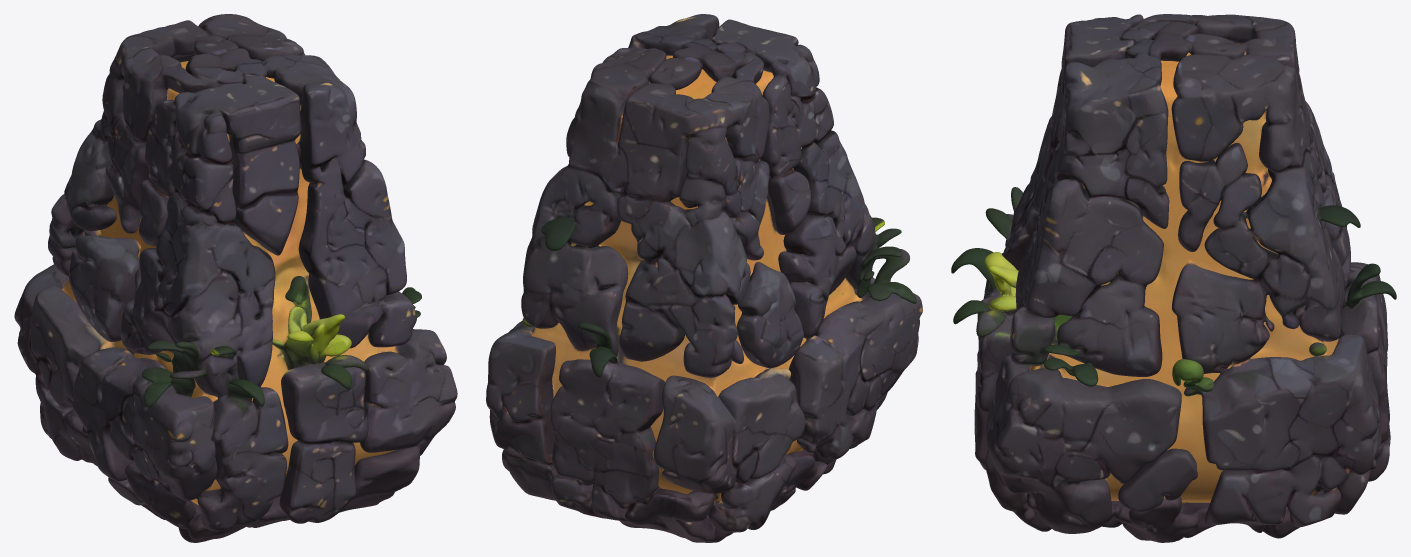
The model's file is lava-rock.glb.
The picture shows the model from 3 angles, left to right: view 1: azimuth 30°, elevation 25°; view 2: azimuth 150°, elevation 25°; view 3: azimuth 270°, elevation 25°; orthographic projection. The views are drawn at different scales.
Visible parts, largest first — view 1: tripo_node_43c6b622-cbec-4d44-b8d7-e703392f9ed8; view 2: tripo_node_43c6b622-cbec-4d44-b8d7-e703392f9ed8; view 3: tripo_node_43c6b622-cbec-4d44-b8d7-e703392f9ed8.
Part boxes in pixels (box(x1,y1,x2,y2)): tripo_node_43c6b622-cbec-4d44-b8d7-e703392f9ed8: box(14, 14, 457, 542); tripo_node_43c6b622-cbec-4d44-b8d7-e703392f9ed8: box(486, 14, 922, 542); tripo_node_43c6b622-cbec-4d44-b8d7-e703392f9ed8: box(951, 14, 1396, 542).
Bounding box in the file's own units: 0.6824 × 1 × 0.83.
1 material, 1 textured.
